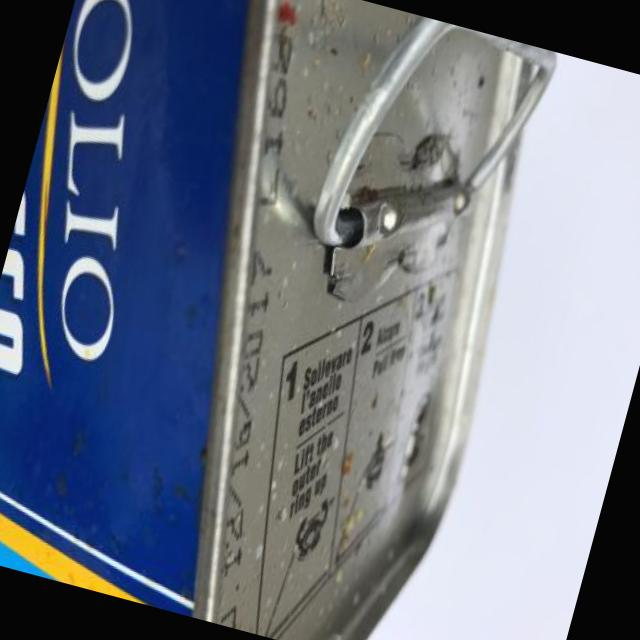nhom: (0, 0, 561, 640)
